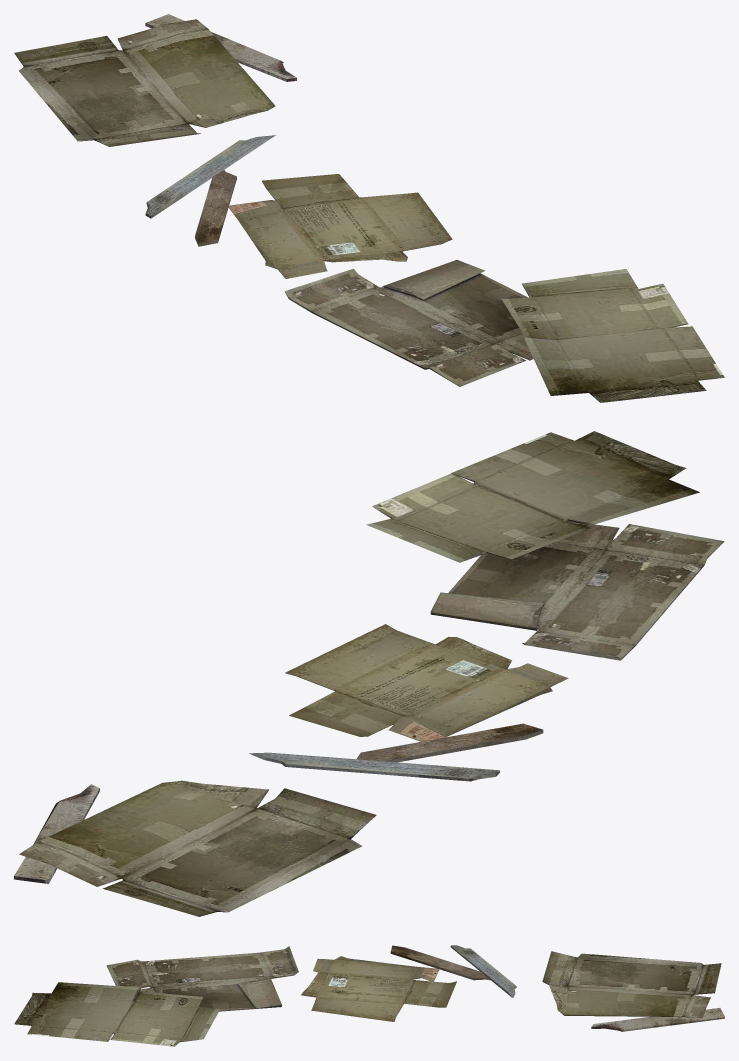
File: garbage256_composite002a.glb
The picture shows the model from 3 angles, top to bottom: view 1: azimuth 30°, elevation 25°; view 2: azimuth 150°, elevation 25°; view 3: azimuth 270°, elevation 25°; orthographic projection. The views are drawn at different scales.
Parts seen in each view (by area): view 1: 0_garbage002a_01; view 2: 0_garbage002a_01; view 3: 0_garbage002a_01.
Part boxes in pixels (x1,y1,x2,y2): 0_garbage002a_01: (14, 14, 724, 402); 0_garbage002a_01: (14, 431, 724, 916); 0_garbage002a_01: (14, 945, 724, 1046).
Size of the model in its own units: 2.26 by 0.0859 by 6.5.
Materials: 1 (1 with a texture image).
